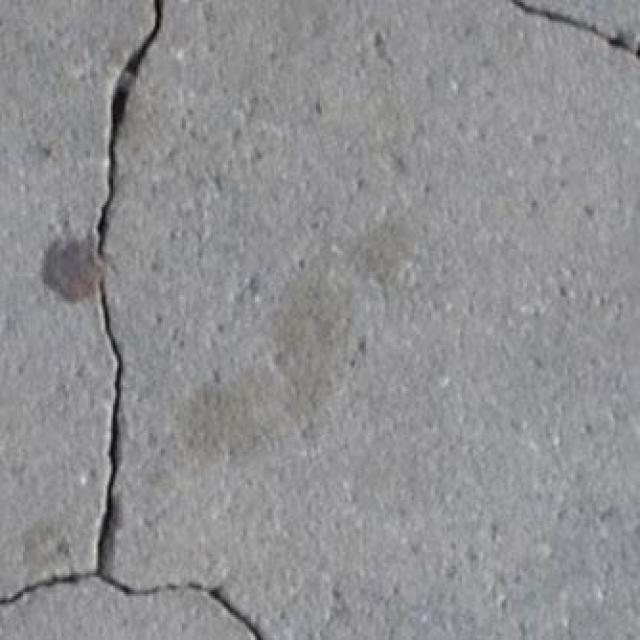diagonal crack: (504, 0, 638, 54)
multi-branched crack: (0, 0, 261, 638)
